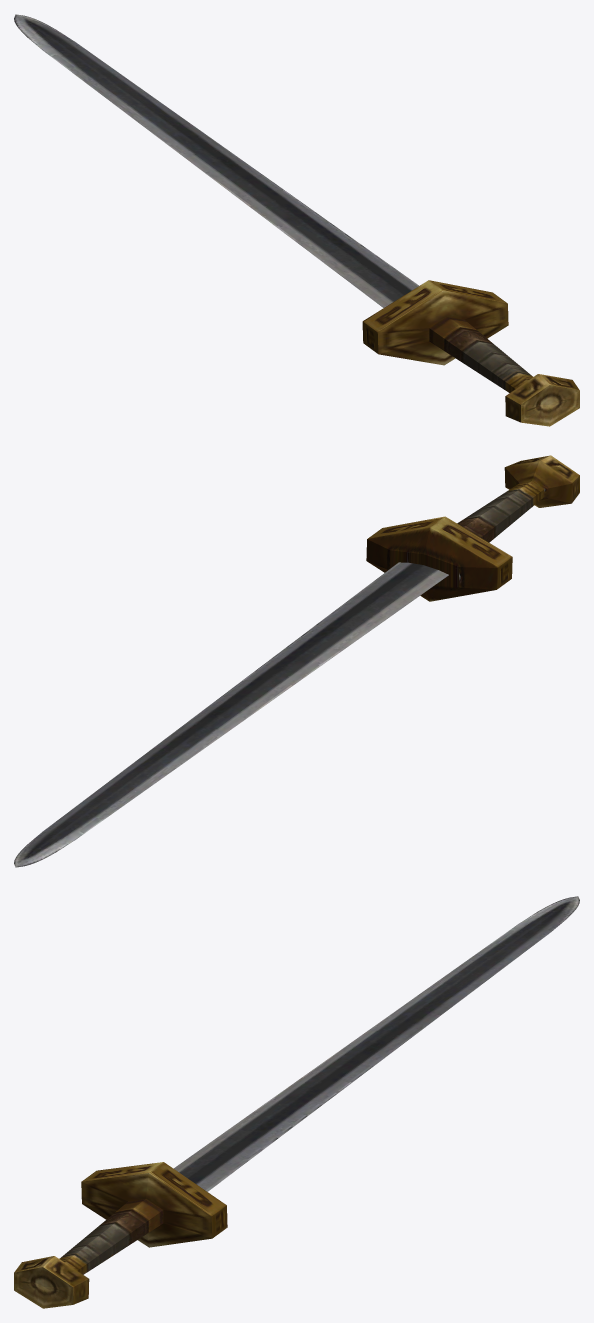
The model's file is qinhuangjian.glb.
3 views of the same model, one above another, from view 1: azimuth 30°, elevation 25°; view 2: azimuth 150°, elevation 25°; view 3: azimuth 330°, elevation 25° (orthographic).
Parts seen in each view (by area): view 1: Sword; view 2: Sword; view 3: Sword.
Part boxes in pixels (x1,y1,x2,y2): Sword: (14, 14, 579, 426); Sword: (14, 455, 579, 867); Sword: (14, 896, 579, 1308).
Size of the model in its own units: 0.0811 by 0.044 by 0.5736.
1 material, 1 textured.
